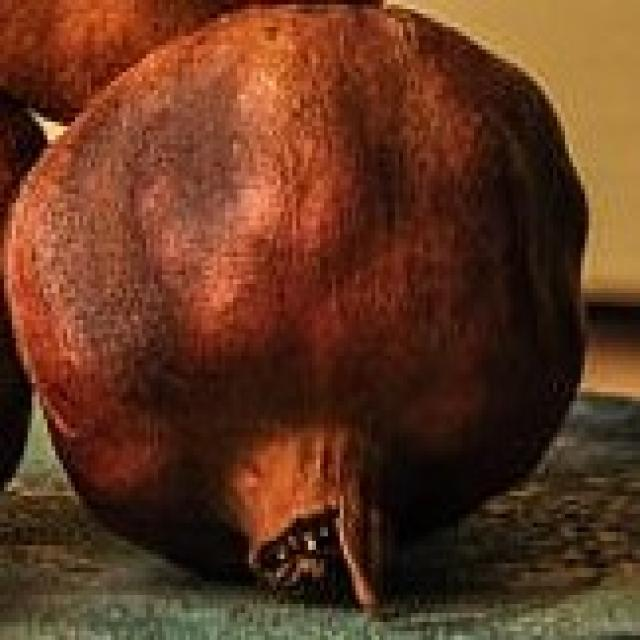overripe: (0, 4, 599, 624)
